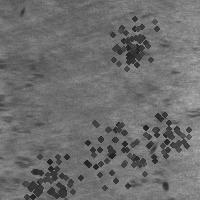rolled-in_scale: (63, 95, 167, 199), (125, 11, 178, 192), (1, 50, 55, 197), (2, 137, 96, 200), (131, 98, 200, 168), (100, 15, 162, 77)
